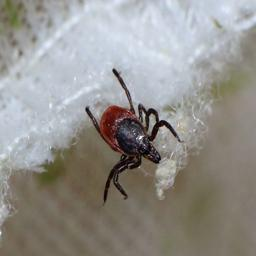Ixodes scapularis: (82, 67, 182, 206)
